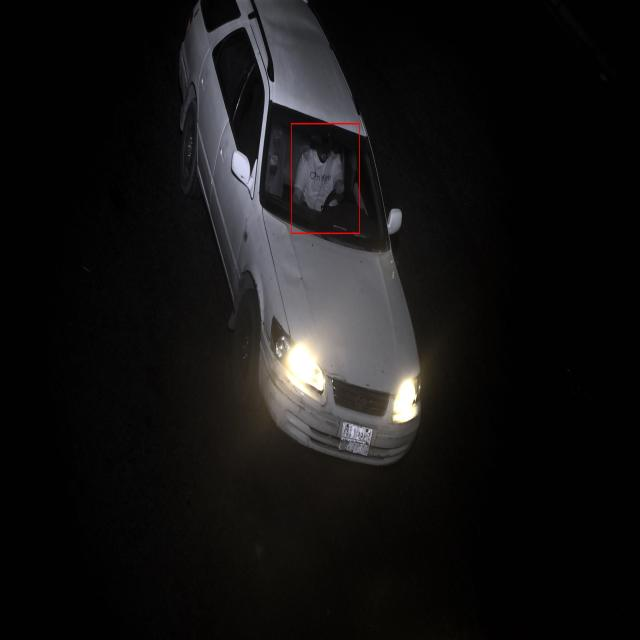windshield: (253, 99, 394, 265)
